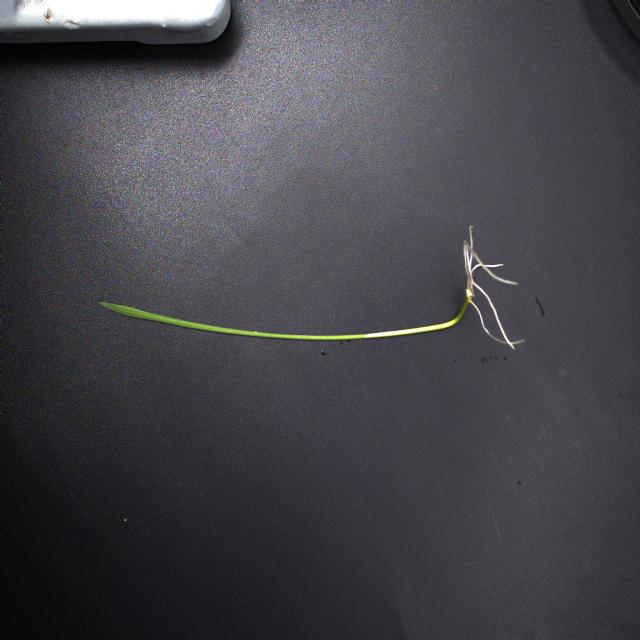leaf: (96, 299, 366, 344)
root: (460, 220, 526, 353)
steb: (366, 295, 471, 342)
